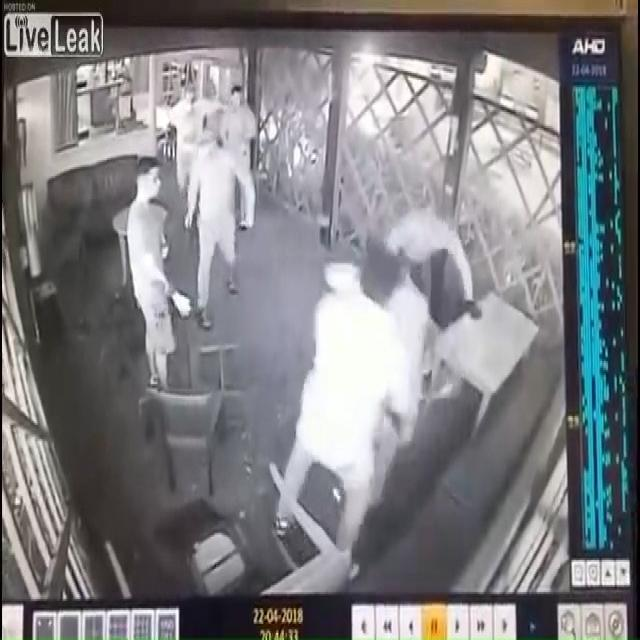fight: (274, 242, 436, 580)
